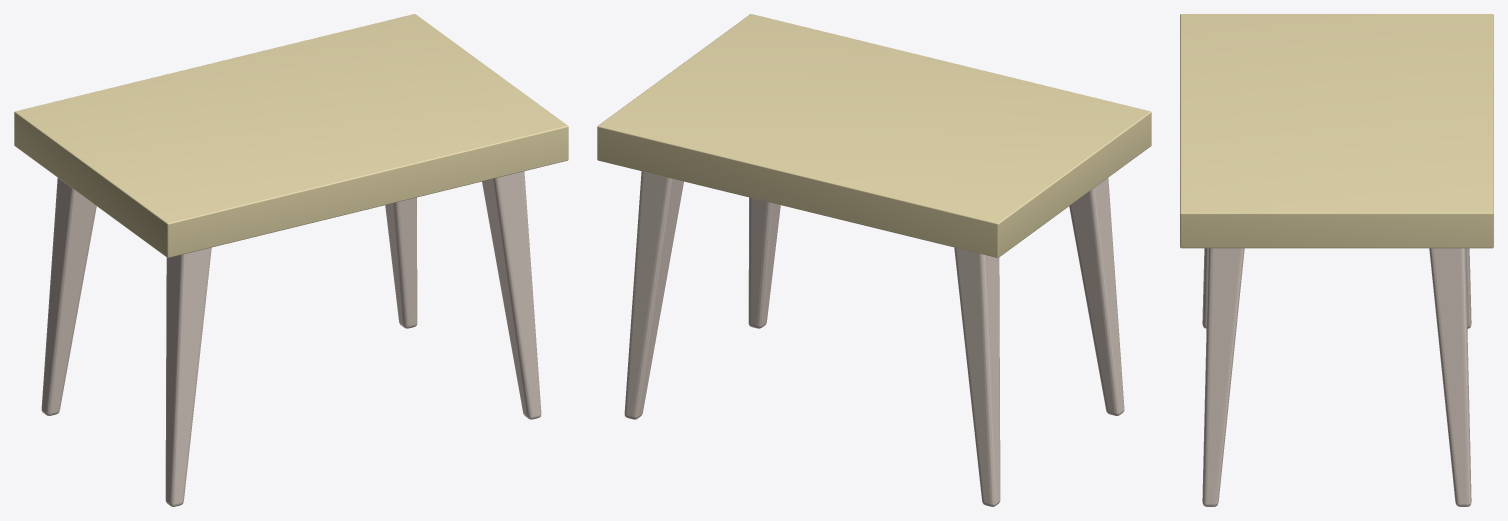
File: Table.fbx
3 views of the same model, side by side, from view 1: azimuth 30°, elevation 25°; view 2: azimuth 150°, elevation 25°; view 3: azimuth 270°, elevation 25° (orthographic).
Parts seen in each view (by area): view 1: Table; view 2: Table; view 3: Table.
Boxes of the visible parts, x1,y1,x2,y2 form: Table: (14, 14, 568, 506); Table: (597, 14, 1151, 506); Table: (1180, 14, 1493, 506).
Size of the model in its own units: 120 by 85.19 by 80.
